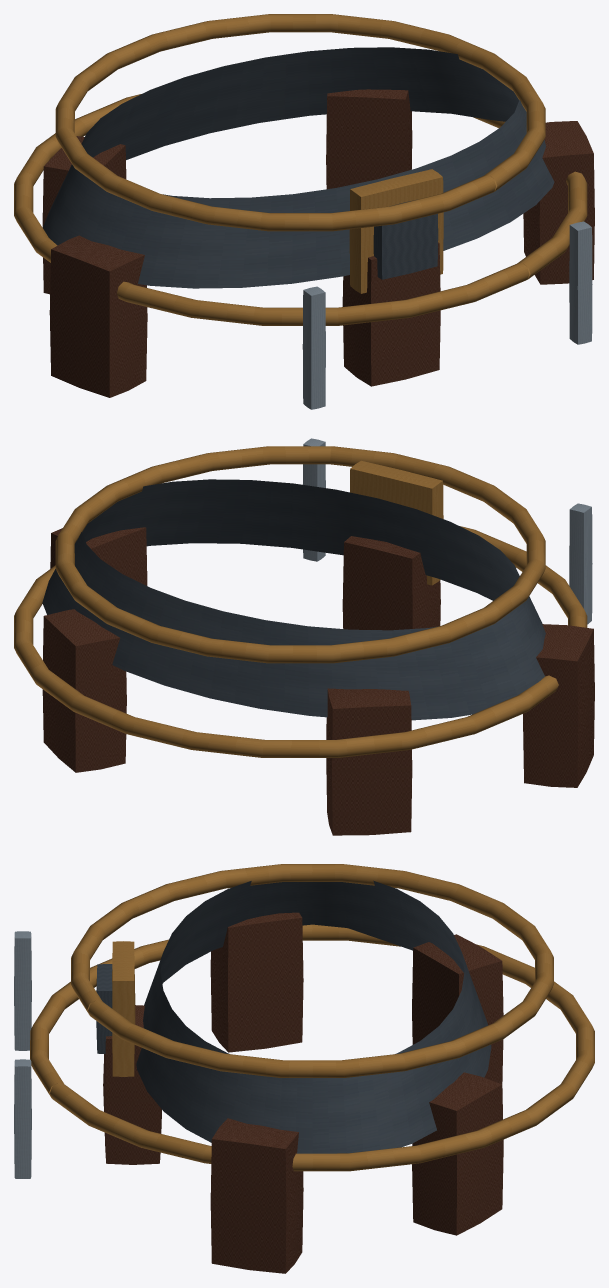
The picture shows the model from 3 angles, top to bottom: view 1: azimuth 30°, elevation 25°; view 2: azimuth 150°, elevation 25°; view 3: azimuth 270°, elevation 25°; orthographic projection.
Parts seen in each view (by area): view 1: iron.0, brass.2, leather.9, brass.1, leather.5, leather.7, leather.6, brass.3, iron.4, steel.11, steel.10, leather.8; view 2: iron.0, brass.2, brass.1, leather.8, leather.7, leather.9, leather.5, brass.3, leather.6, steel.10, steel.11; view 3: iron.0, brass.2, brass.1, leather.6, leather.9, leather.7, leather.8, leather.5, brass.3, steel.11, steel.10, iron.4.
Part boxes in pixels (left/top/right/bottom): iron.0: left=43, top=47, right=554, bottom=288; brass.2: left=55, top=14, right=545, bottom=231; leather.9: left=49, top=235, right=147, bottom=397; brass.1: left=14, top=94, right=587, bottom=325; leather.5: left=342, top=242, right=440, bottom=386; leather.7: left=326, top=89, right=412, bottom=189; leather.6: left=523, top=121, right=594, bottom=284; brass.3: left=349, top=169, right=443, bottom=293; iron.4: left=373, top=201, right=438, bottom=279; steel.11: left=569, top=221, right=592, bottom=344; steel.10: left=302, top=286, right=325, bottom=409; leather.8: left=42, top=136, right=126, bottom=294; iron.0: left=42, top=479, right=545, bottom=720; brass.2: left=55, top=446, right=545, bottom=663; brass.1: left=14, top=526, right=587, bottom=757; leather.8: left=326, top=688, right=412, bottom=835; leather.7: left=42, top=609, right=126, bottom=772; leather.9: left=523, top=624, right=594, bottom=787; leather.5: left=342, top=536, right=440, bottom=630; brass.3: left=350, top=460, right=443, bottom=585; leather.6: left=50, top=527, right=147, bottom=585; steel.10: left=569, top=503, right=592, bottom=624; steel.11: left=303, top=438, right=325, bottom=561; iron.0: left=136, top=880, right=491, bottom=1153; brass.2: left=71, top=864, right=553, bottom=1077; brass.1: left=30, top=924, right=594, bottom=1171; leather.6: left=210, top=1118, right=303, bottom=1273; leather.9: left=210, top=912, right=303, bottom=1052; leather.7: left=412, top=1072, right=503, bottom=1235; leather.8: left=412, top=934, right=503, bottom=1083; leather.5: left=103, top=1005, right=161, bottom=1164; brass.3: left=112, top=941, right=135, bottom=1076; steel.11: left=14, top=1059, right=31, bottom=1178; steel.10: left=14, top=931, right=31, bottom=1050; iron.4: left=96, top=964, right=112, bottom=1053.
Bounding box in the file's own units: 0.5022 × 0.175 × 0.4854.
Materials: 4 (4 with a texture image).
